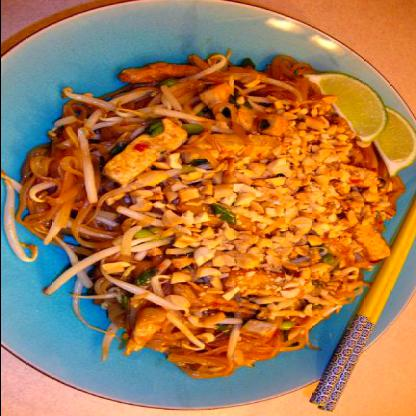Pad Thai: (28, 50, 404, 363)
